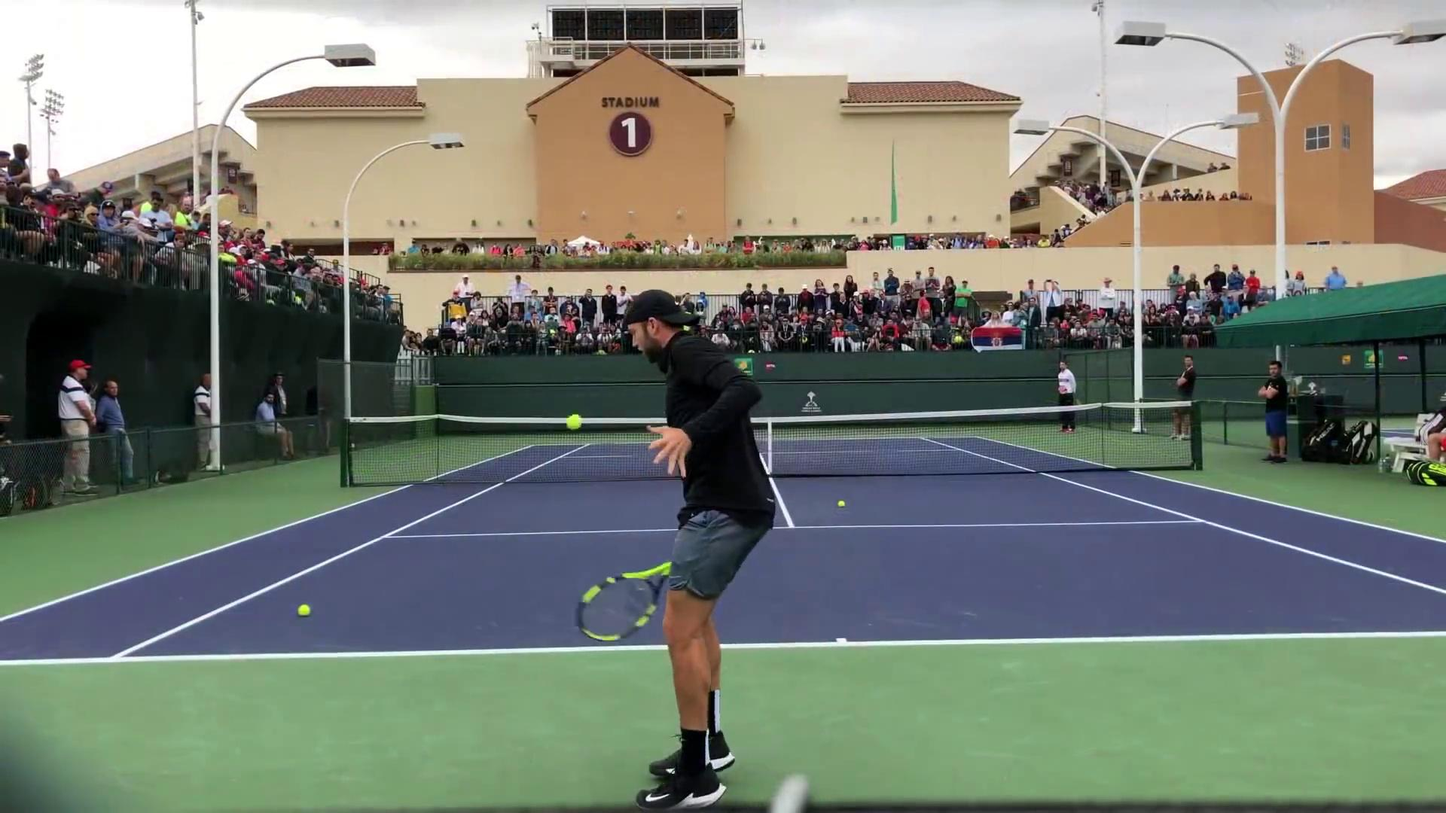ball: (564, 415, 585, 432), (297, 603, 311, 617), (837, 501, 846, 508)
